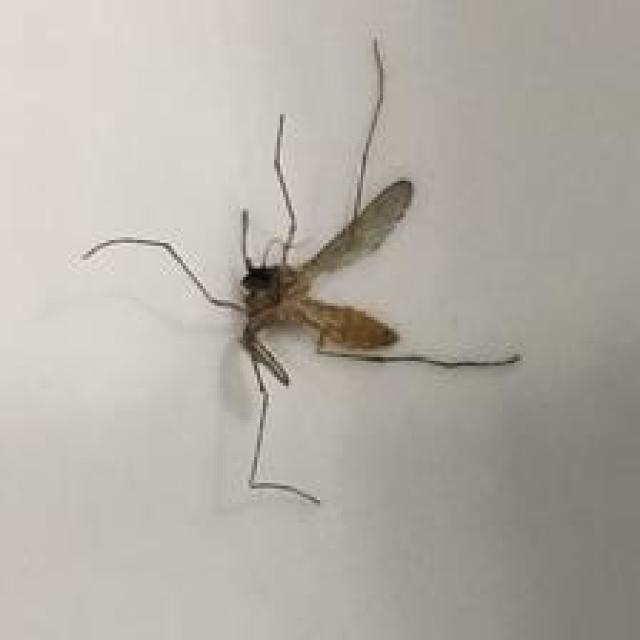Culex: (80, 34, 523, 506)
